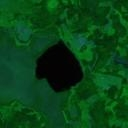alloviz: (33, 37, 85, 93)
